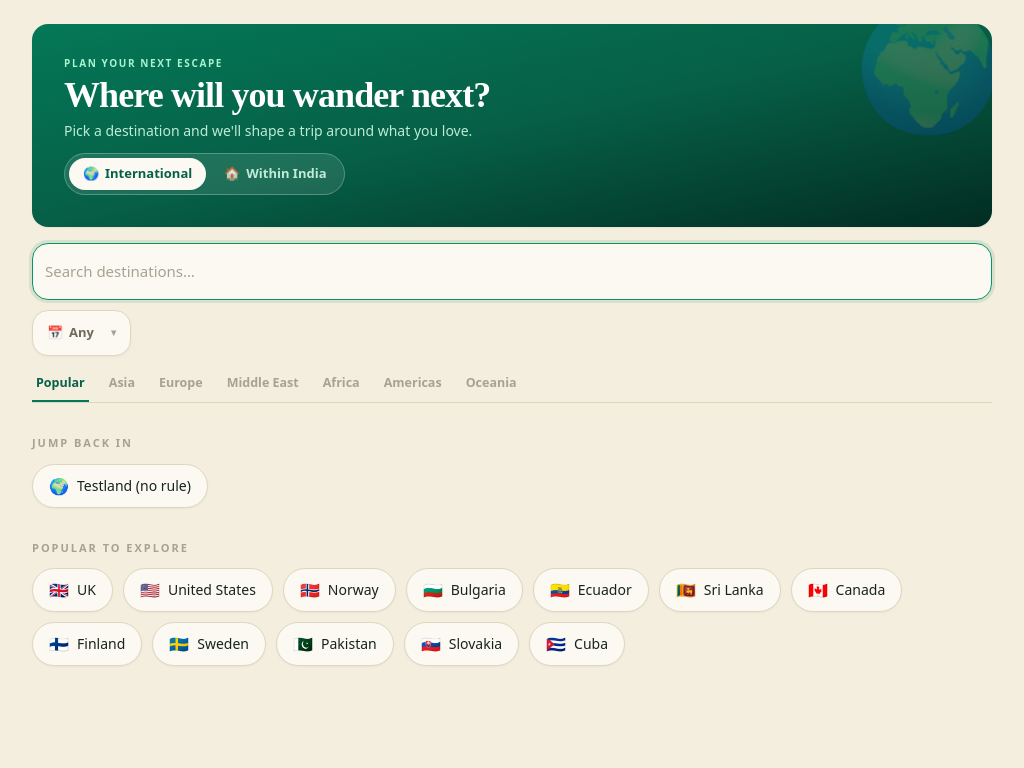
PlanView — guided planner › shows a no-match state hint
The image size is (1024, 768).
Type "zzzzz" into the search field at (512, 271), box top-left (45, 254), bottom-right (979, 288)
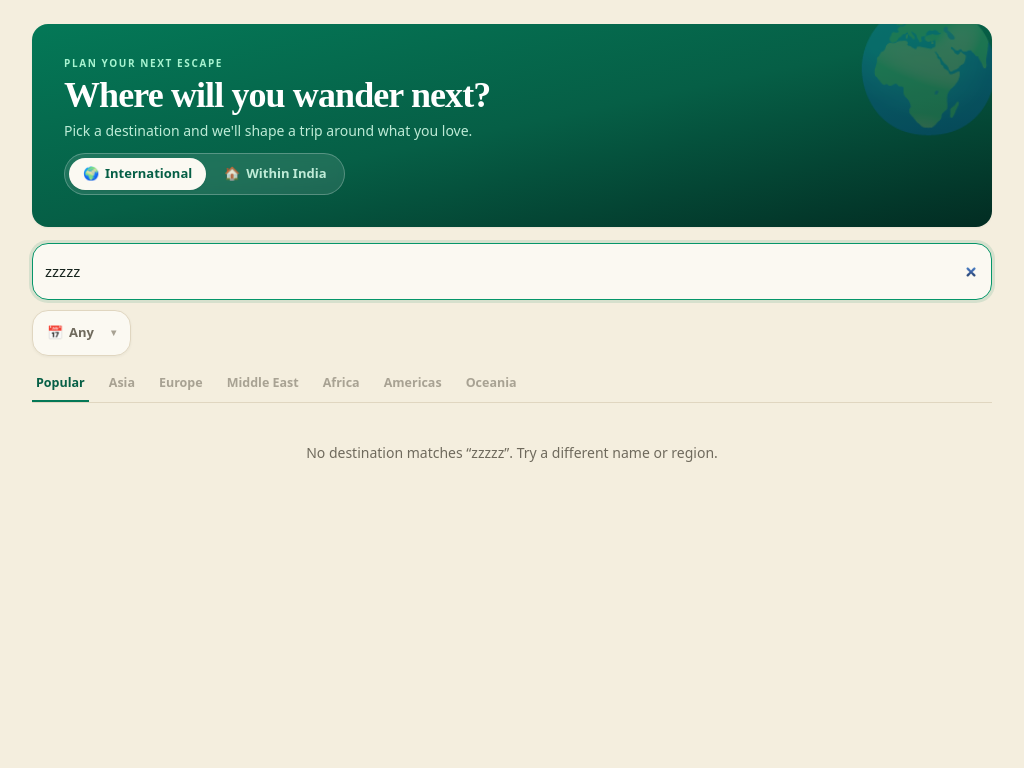
Now the text "No destination matches" is shown, box top-left (306, 443), bottom-right (471, 462)
